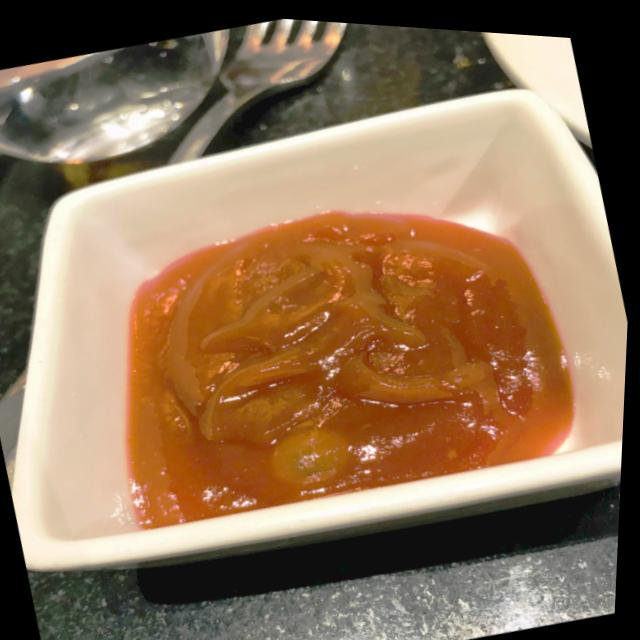ketchup: (60, 137, 600, 566)
